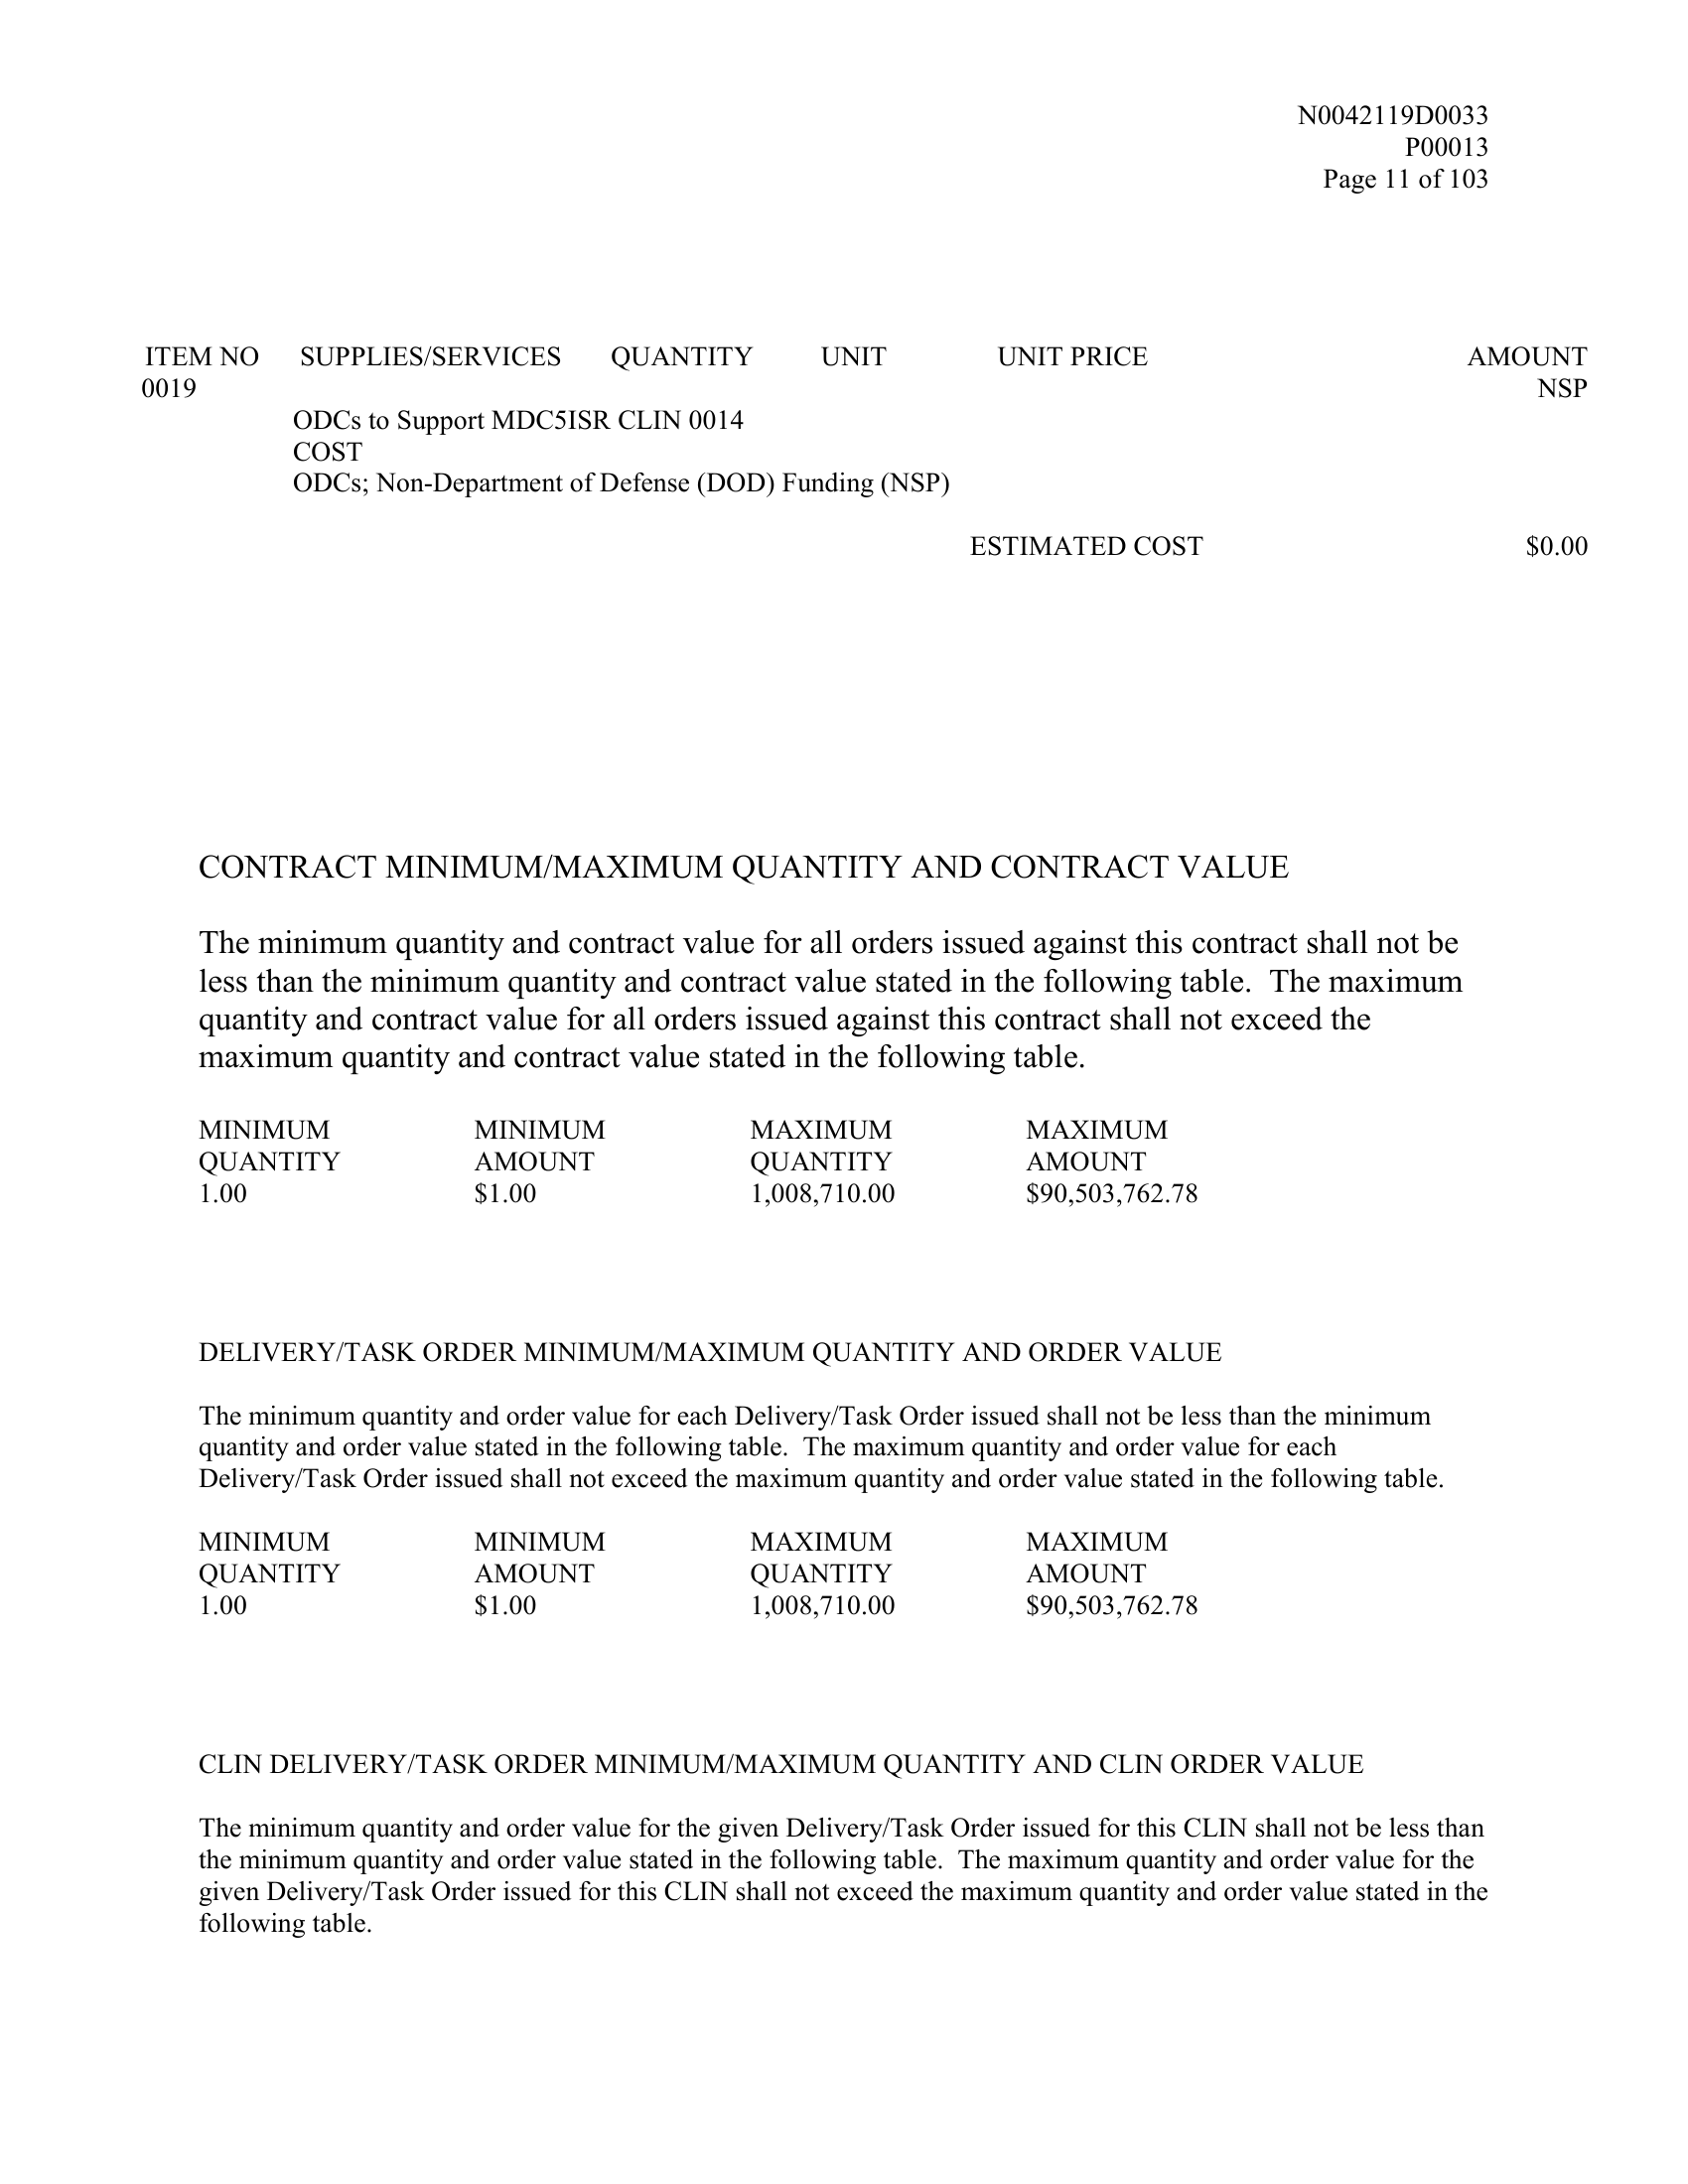table: (131, 340, 1608, 562)
